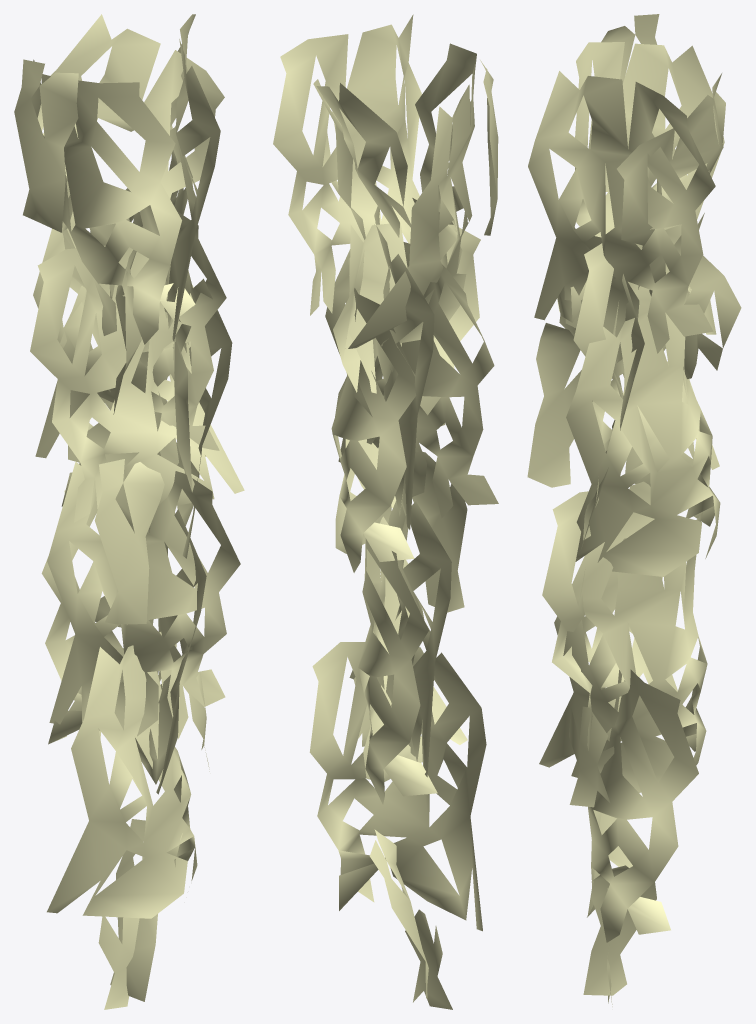
The model's file is ivy_tall.gltf.
3 views of the same model, side by side, from view 1: azimuth 30°, elevation 25°; view 2: azimuth 150°, elevation 25°; view 3: azimuth 270°, elevation 25° (orthographic).
Parts seen in each view (by area): view 1: Ivy_tall; view 2: Ivy_tall; view 3: Ivy_tall.
Part boxes in pixels (x1,y1,x2,y2): Ivy_tall: [14, 14, 244, 1009]; Ivy_tall: [273, 14, 498, 1009]; Ivy_tall: [527, 14, 741, 1006].
Bounding box in the file's own units: 1.7 × 7.98 × 1.62.
